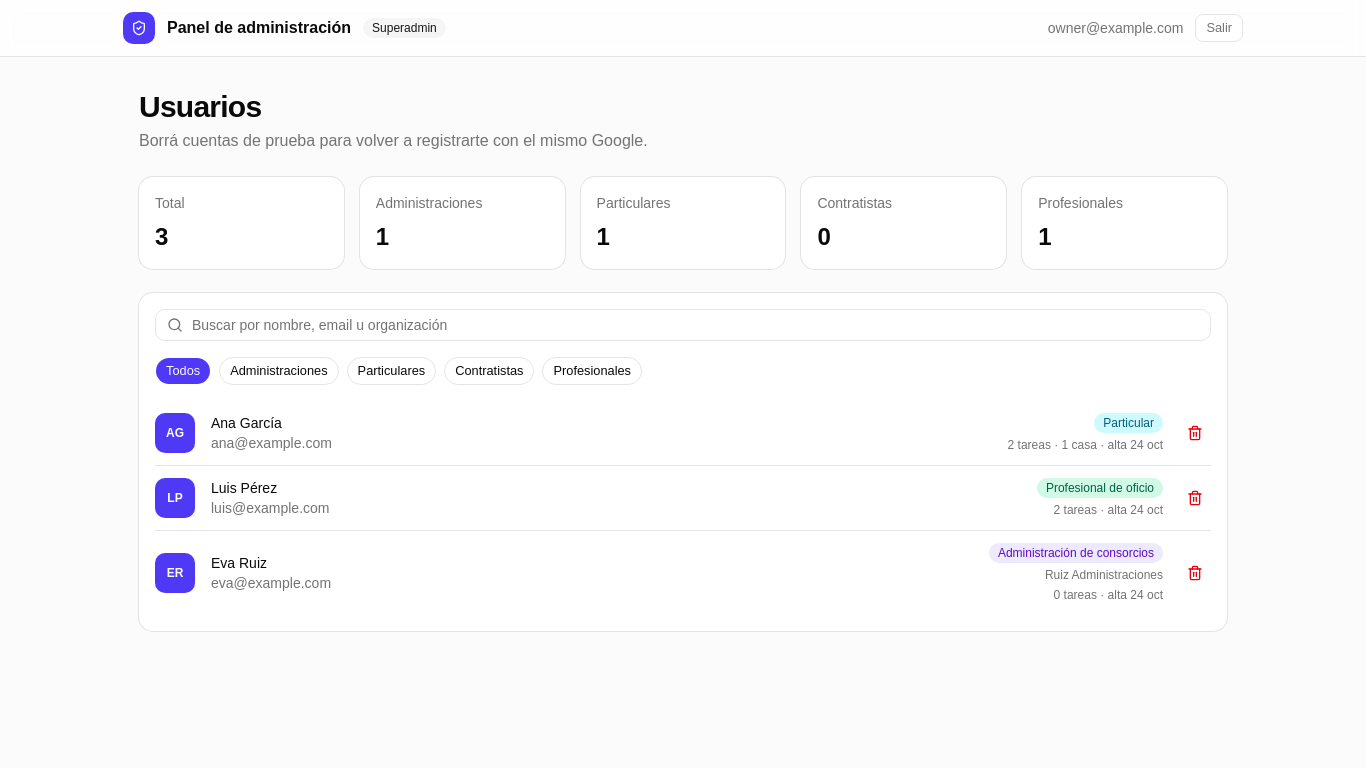
Test case: AdminUsers › filters by profile type and search
Expected: the text "Ana García" is shown, x1=211 y1=415 x2=282 y2=431
Click the button "Profesionales" at (592, 371), box x1=542 y1=357 x2=642 y2=385
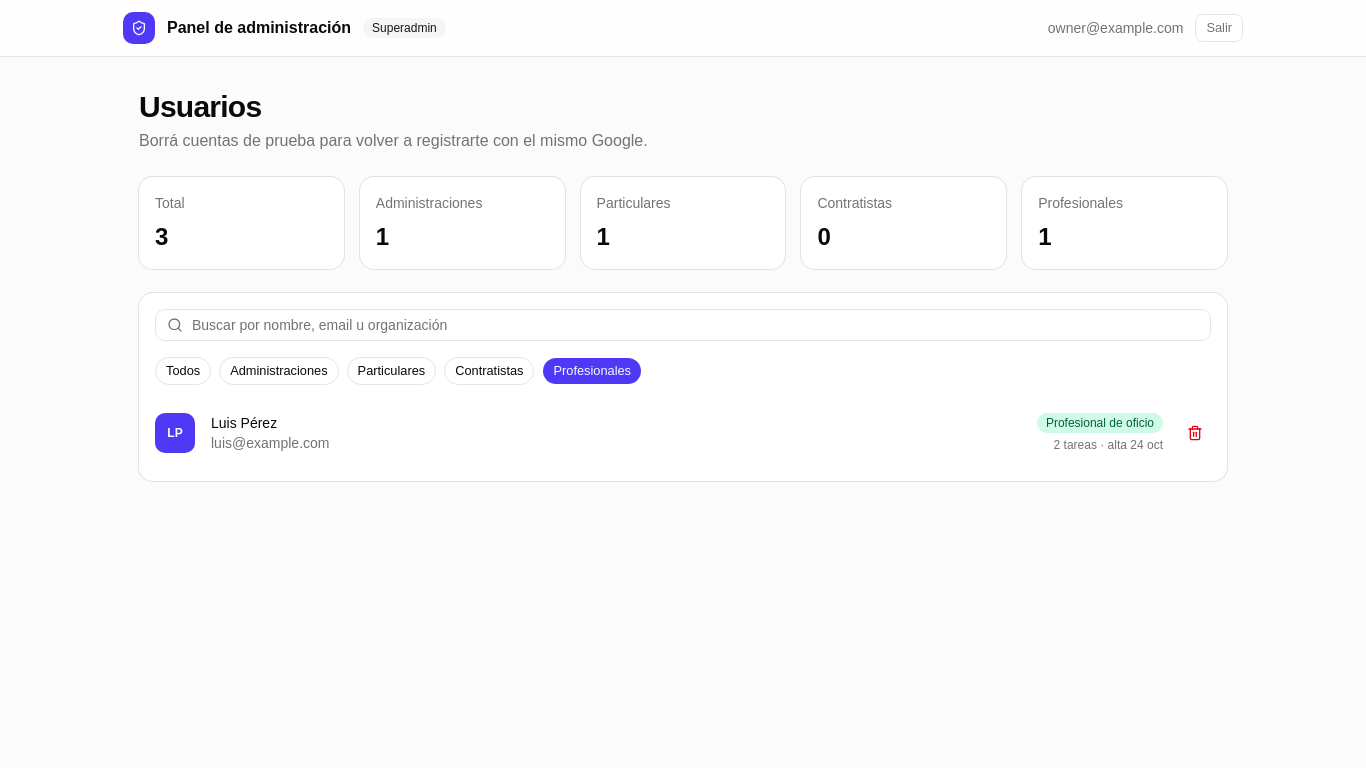
Expected: the text "Luis Pérez" is shown, x1=211 y1=415 x2=277 y2=431
Expected: the number of list items is 1, x1=155 y1=401 x2=1211 y2=465
Click the button "Todos" at (183, 371), box x1=155 y1=357 x2=211 y2=385
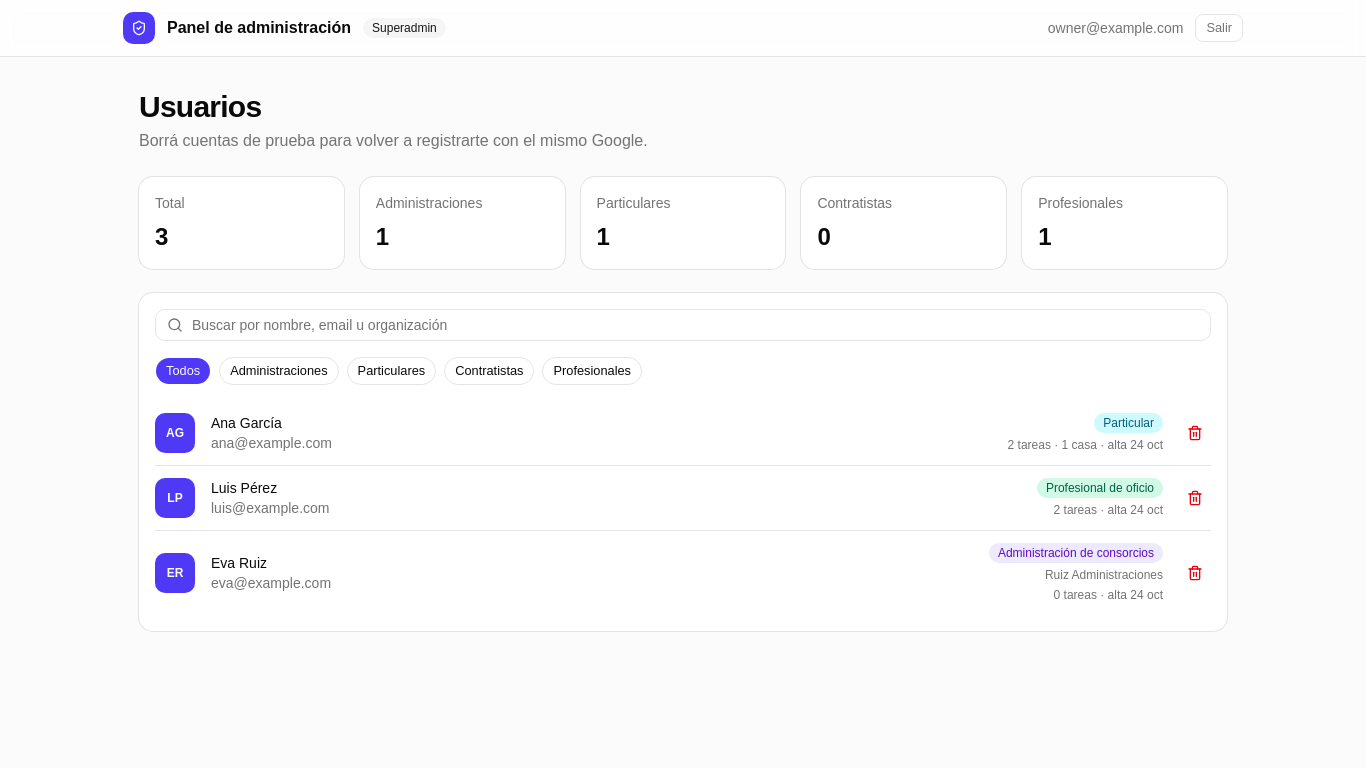
Type "ruiz adm" into the search field labelled "Buscar" at (683, 325), box x1=155 y1=309 x2=1211 y2=341
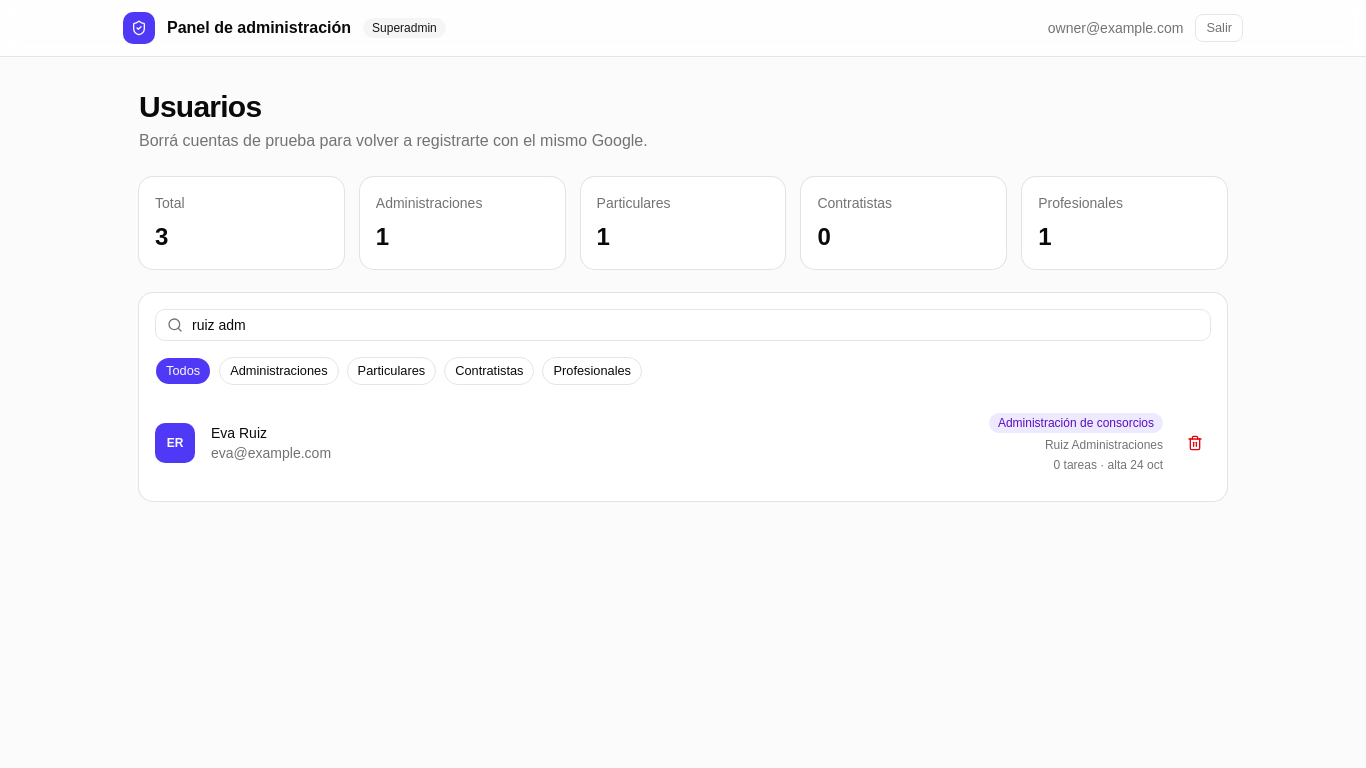
Expected: the text "Eva Ruiz" is shown, x1=211 y1=425 x2=267 y2=441
Expected: the number of list items is 1, x1=155 y1=401 x2=1211 y2=485
Replace the text in the search field named "Buscar" with "nadie" at (683, 325), box x1=155 y1=309 x2=1211 y2=341
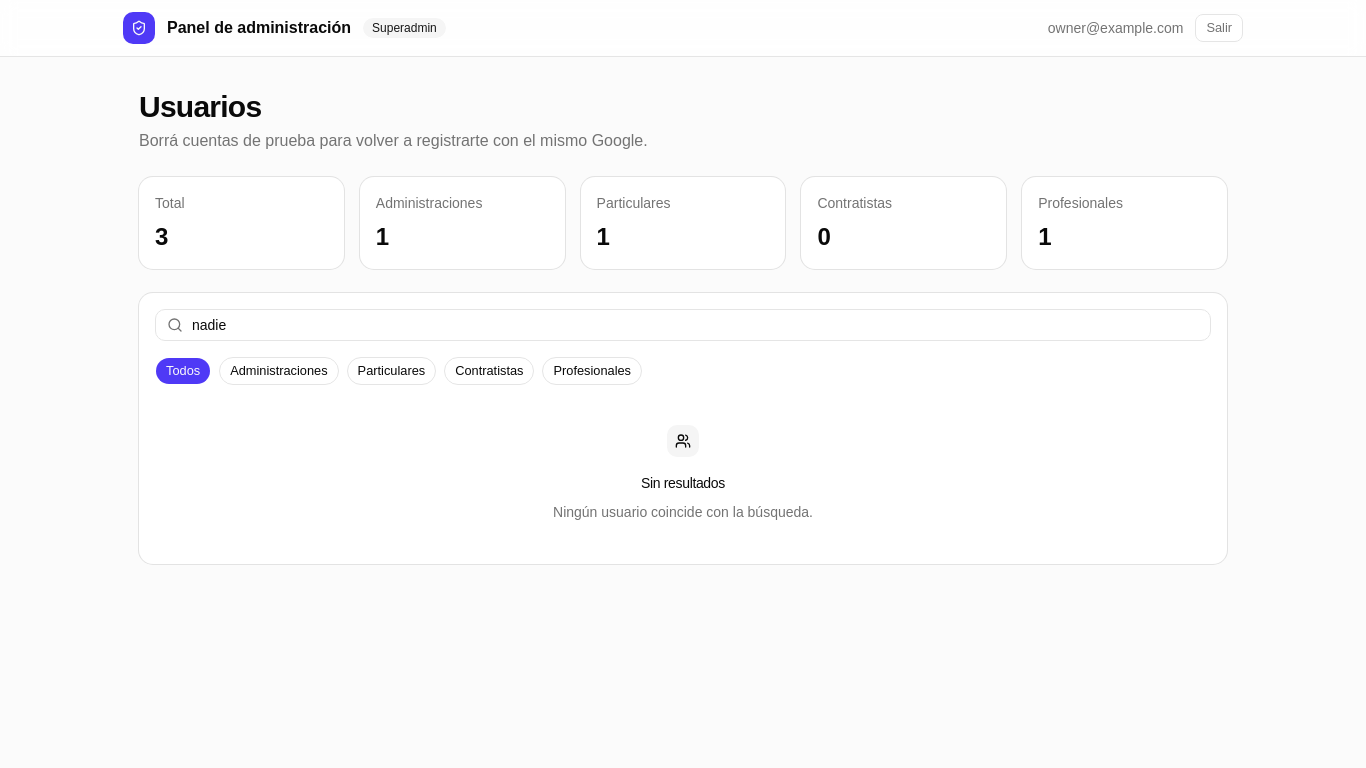
Expected: the text "Ningún usuario coincide con la búsqueda." is shown, x1=553 y1=501 x2=813 y2=524
